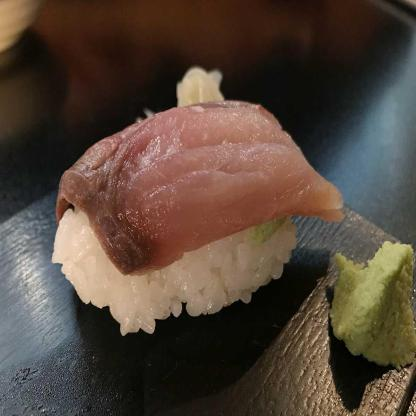hamachi: (41, 83, 350, 346)
